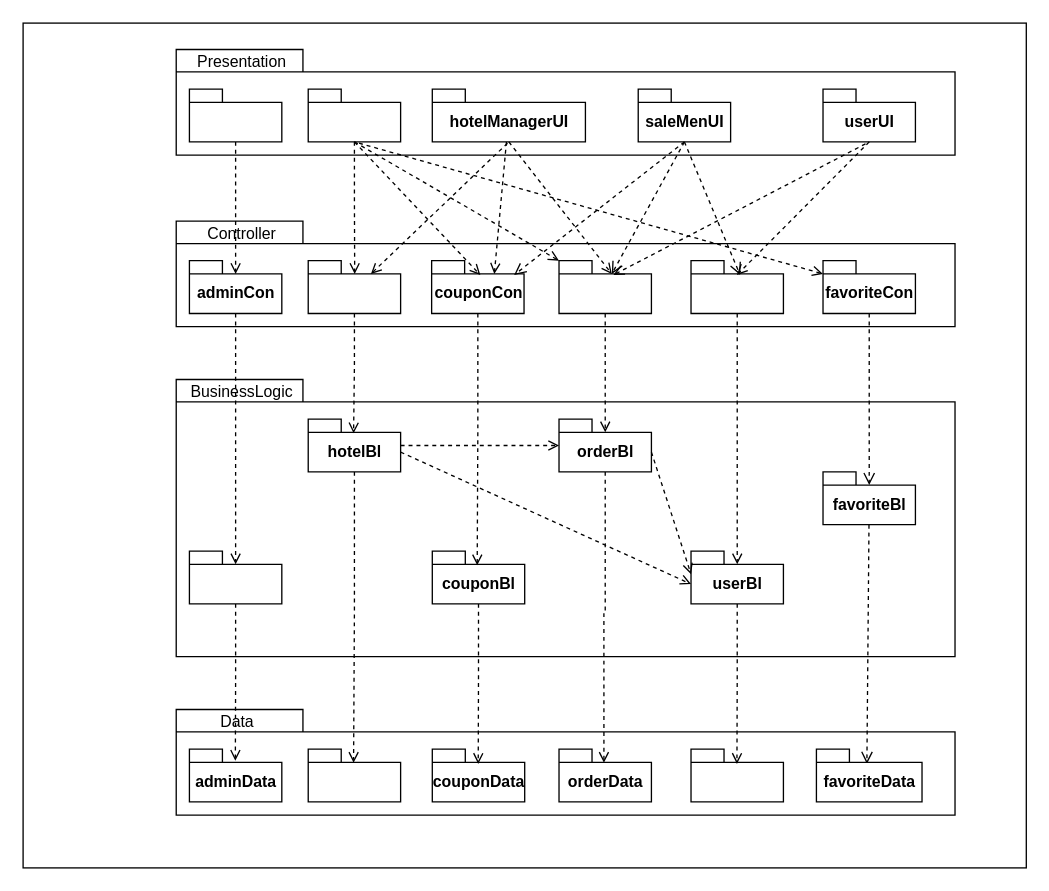
Image size: 1049x891. Some labels were removed from this diagram. Each missing label, with the centre of its shape:
"adminBl" goes at (235,577).
"adminUI" goes at (235,115).
"hotelCon" goes at (354,286).
"hotelData" goes at (354,775).
"hotelUI" goes at (354,115).
"orderCon" goes at (604,286).
"userCon" goes at (736,286).
"userData" goes at (736,775).
